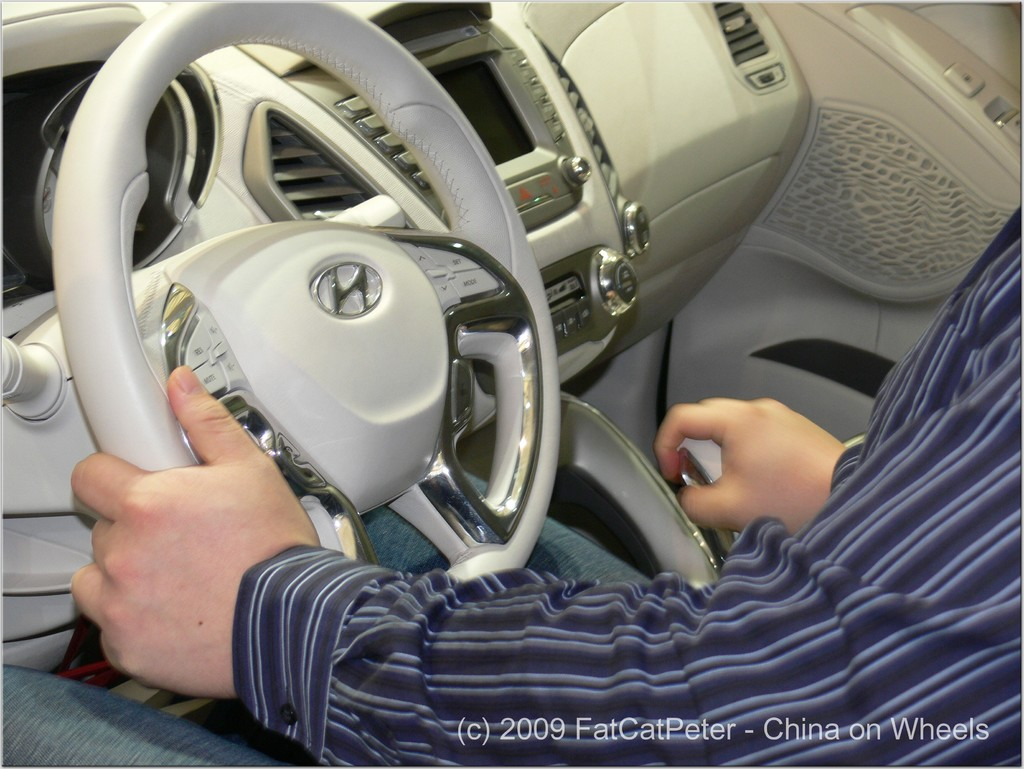Car: (0, 0, 991, 733)
